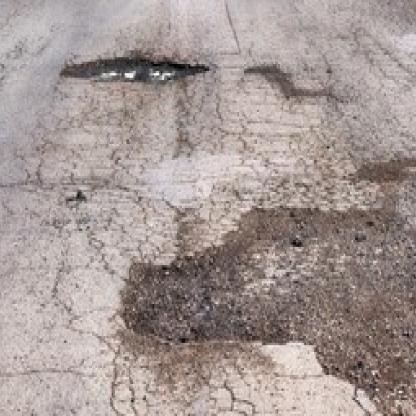pothole: (121, 204, 416, 416), (61, 55, 206, 84)
